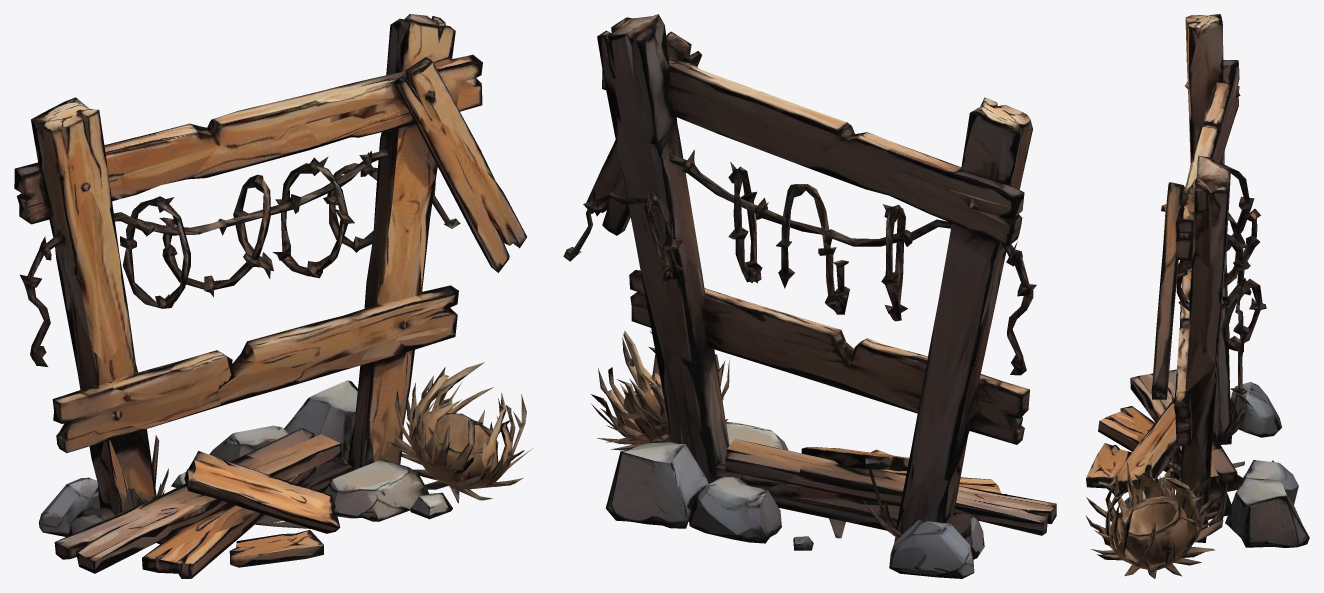
The model's file is wl_fence_broken.glb.
3 renders of one model, left to right at view 1: azimuth 30°, elevation 25°; view 2: azimuth 150°, elevation 25°; view 3: azimuth 270°, elevation 25°, orthographic. The views are drawn at different scales.
Visible parts, largest first — view 1: wl_fence_broken; view 2: wl_fence_broken; view 3: wl_fence_broken.
Part boxes in pixels (bbox=[...]): wl_fence_broken: bbox=[14, 14, 532, 578]; wl_fence_broken: bbox=[563, 14, 1056, 578]; wl_fence_broken: bbox=[1085, 14, 1309, 578].
Size of the model in its own units: 2.18 by 2 by 1.02.
Materials: 1 (1 with a texture image).
